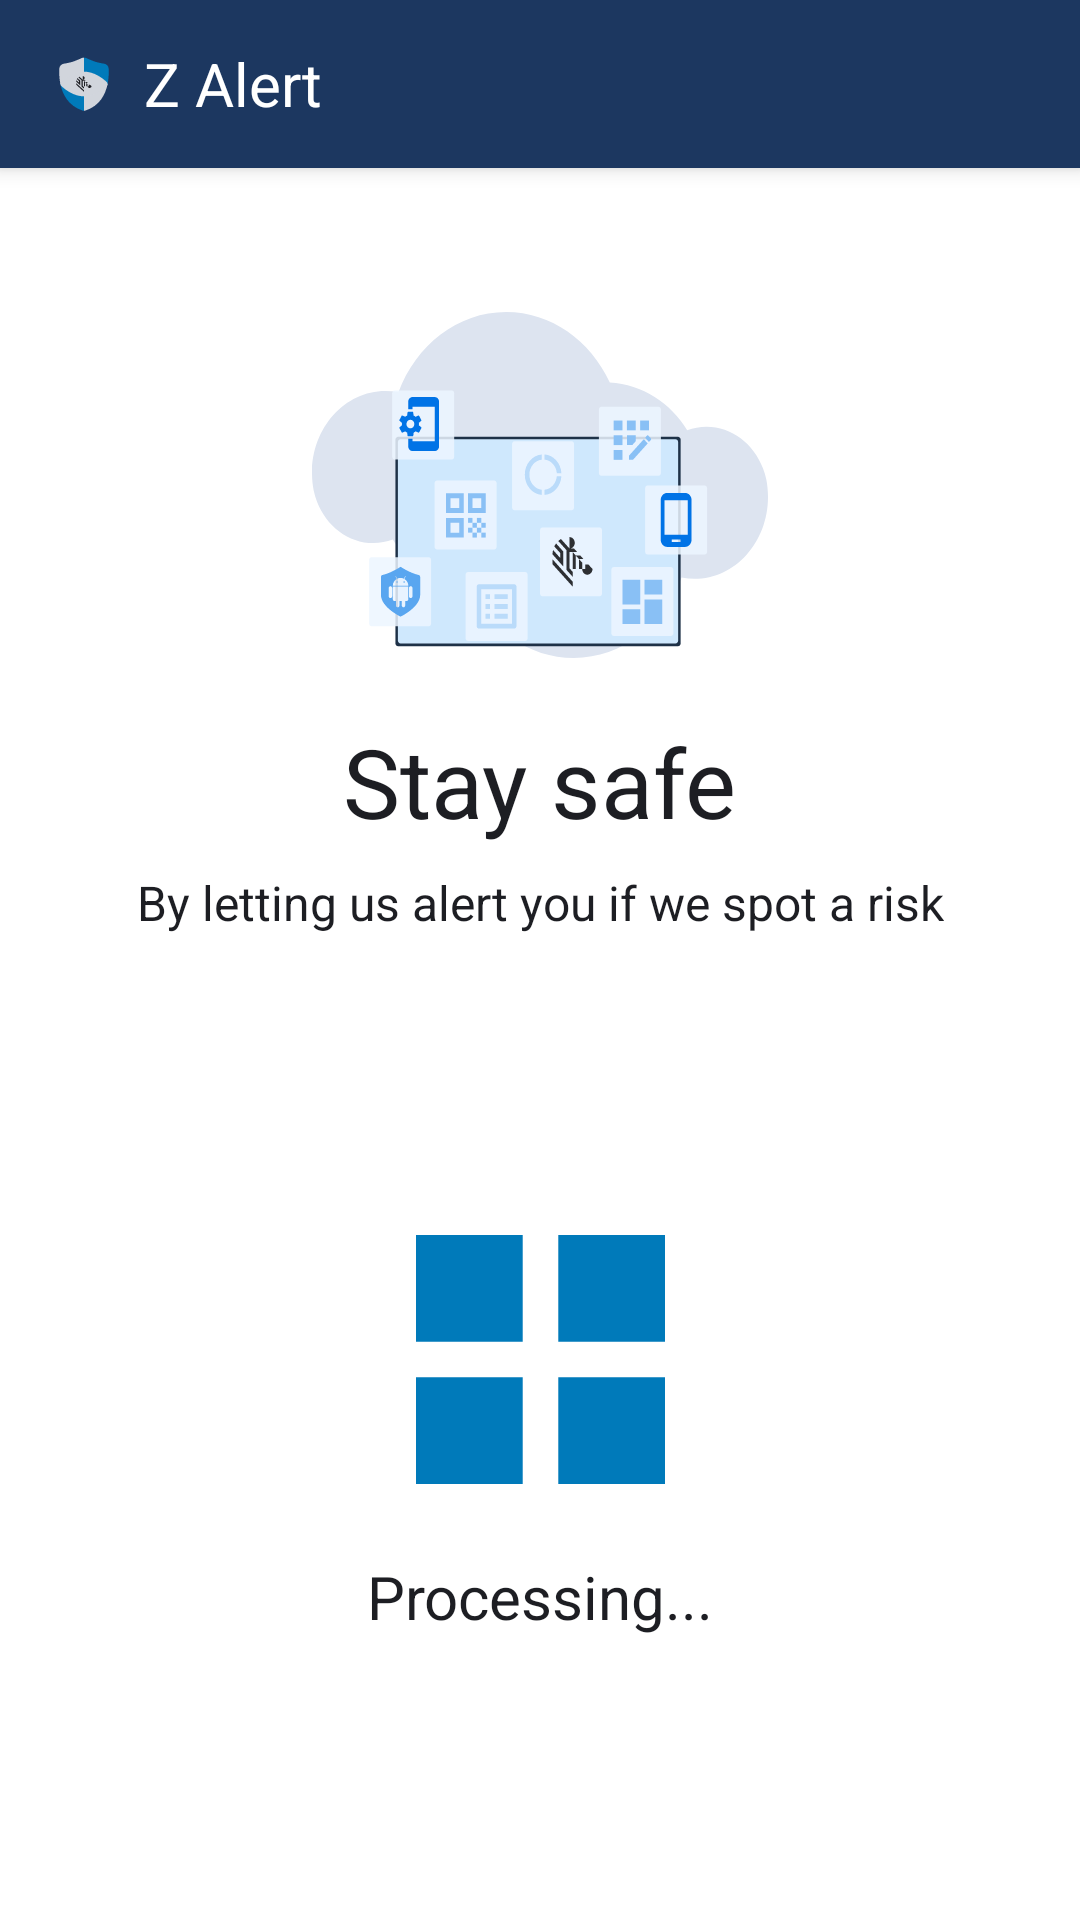

Where icons sit on this 1080x1920 app screen, as (x1, y1, x2, y2):
square: (416, 1235, 665, 1484)
